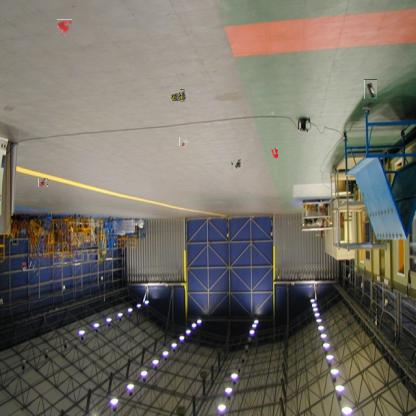dirty: (364, 79, 377, 99), (170, 89, 186, 101), (231, 159, 243, 171), (180, 136, 190, 147), (38, 178, 48, 187)
liquid: (57, 19, 72, 35), (268, 146, 280, 158)
